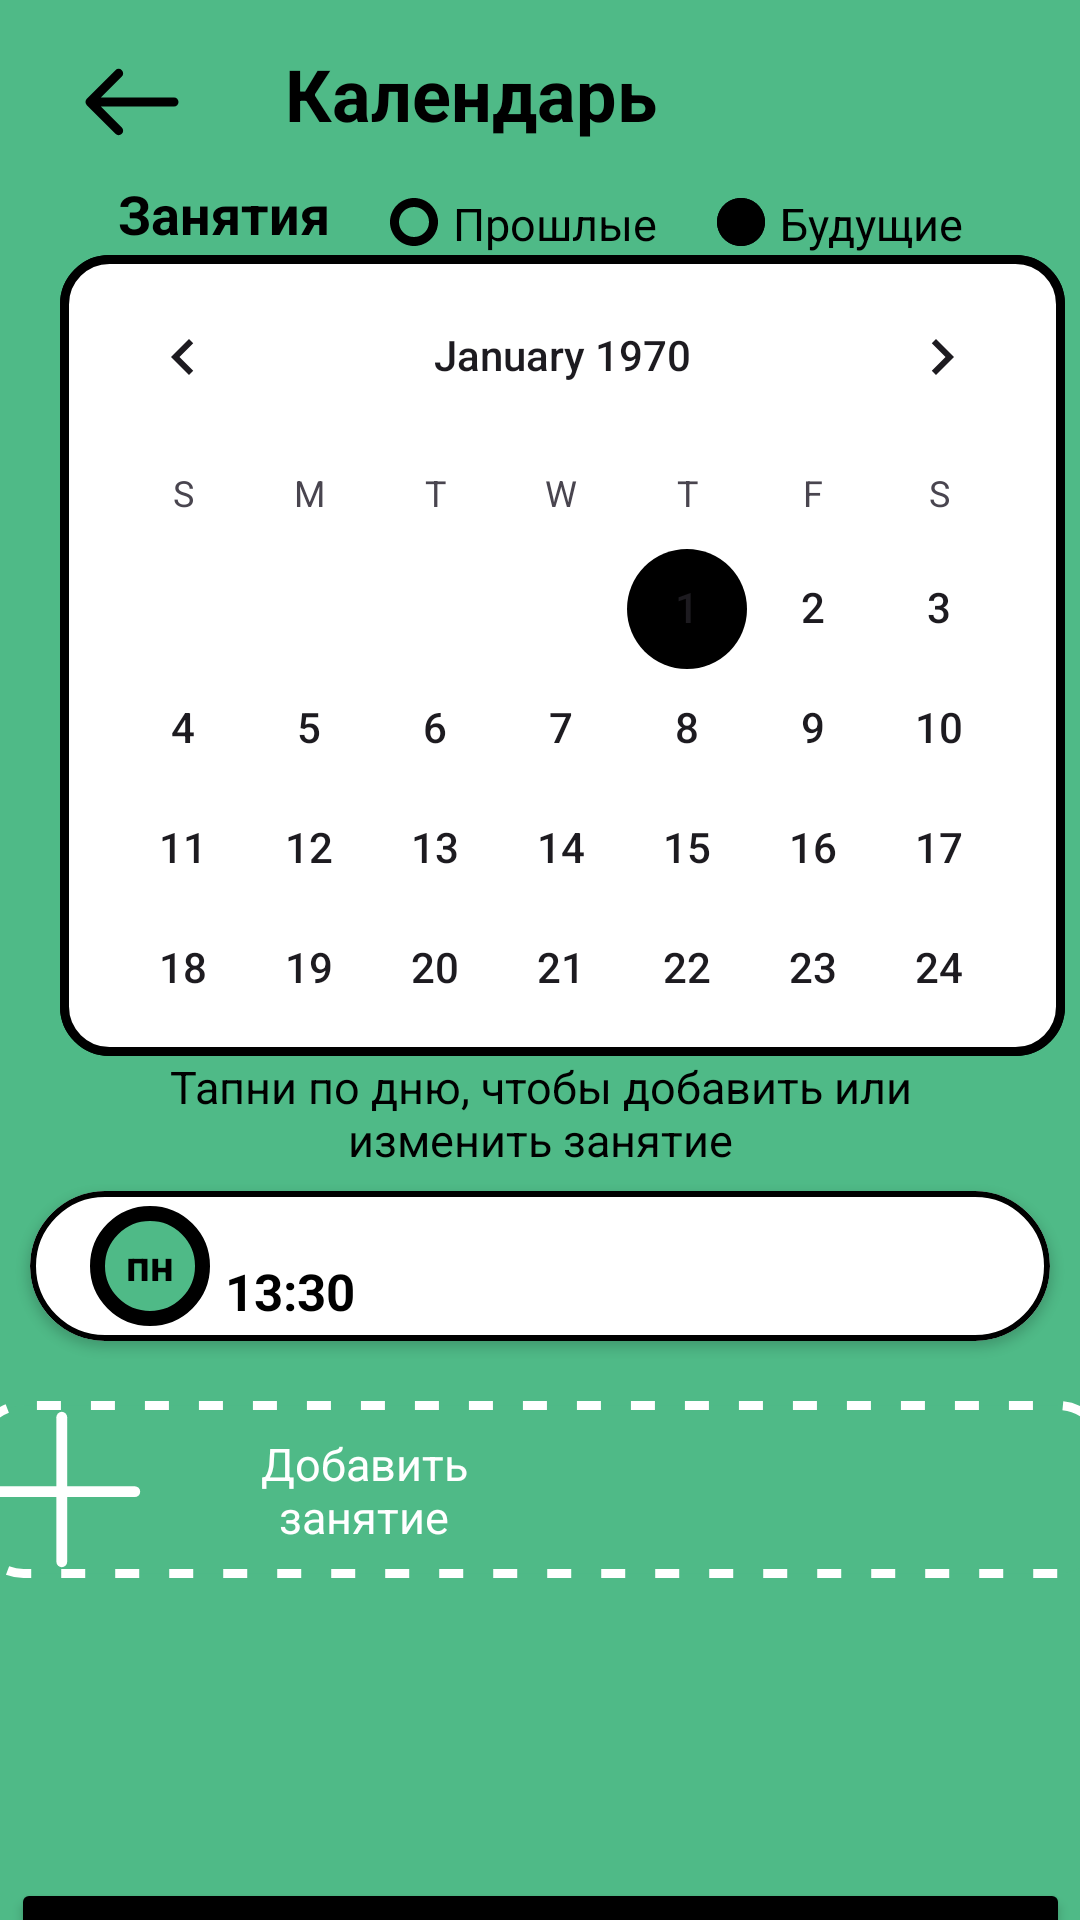

Where icons sit on this 1080x1920 app screen, as Rect(x1, y1, x2, y2):
arrow: Rect(85, 68, 179, 136)
